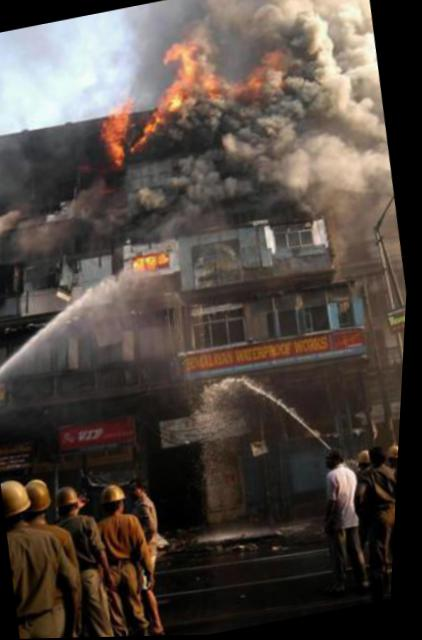fire: (99, 109, 130, 161), (132, 251, 169, 274), (173, 58, 196, 90), (158, 39, 192, 60), (161, 81, 181, 110), (193, 71, 216, 92), (141, 118, 155, 134)
